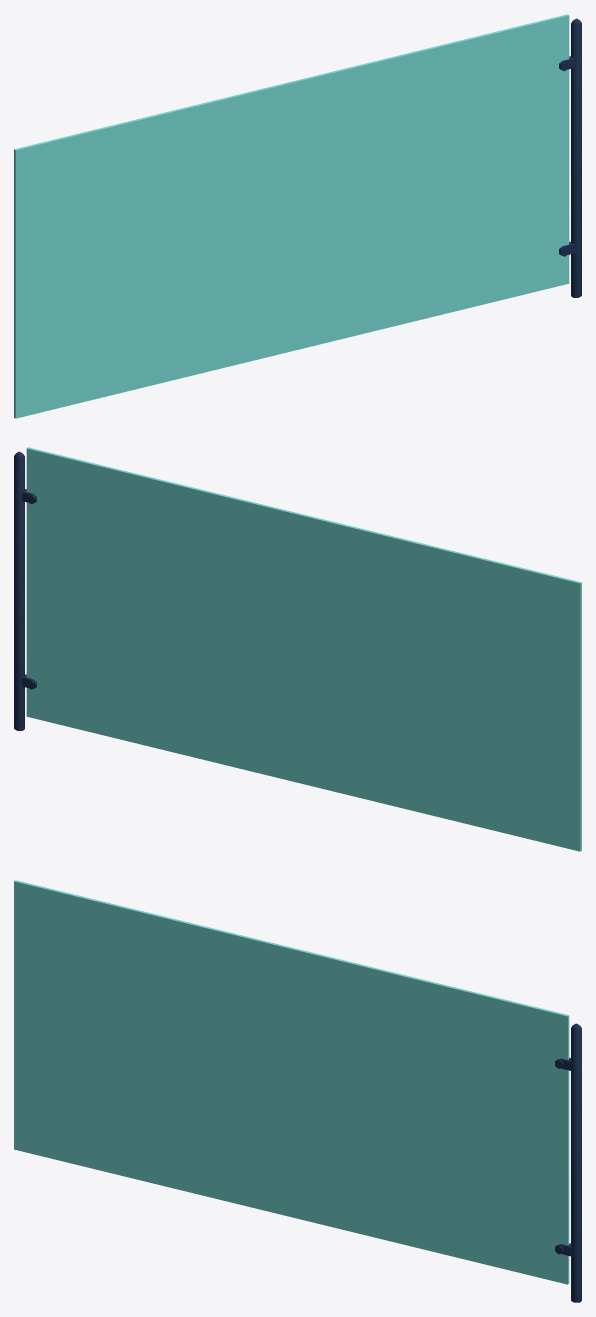
Rendered from Rail Double End Test.fbx.
3 renders of one model, top to bottom at view 1: azimuth 30°, elevation 25°; view 2: azimuth 150°, elevation 25°; view 3: azimuth 330°, elevation 25°, orthographic.
Visible parts, largest first — view 1: Rail.001; view 2: Rail.001; view 3: Rail.001.
Boxes of the visible parts, x1,y1,x2,y2 form: Rail.001: (14, 14, 581, 418); Rail.001: (14, 447, 581, 851); Rail.001: (14, 880, 581, 1302).
Size of the model in its own units: 1.99 by 0.95 by 0.0375.
